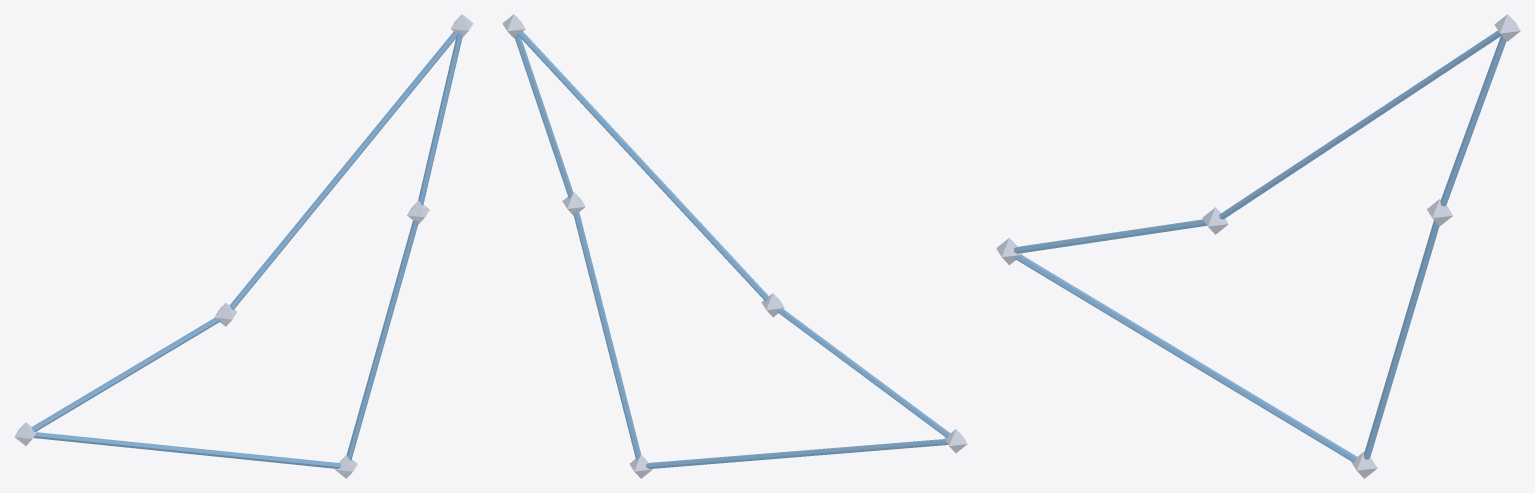
Rendered from constellation-ind.glb.
3 views of the same model, side by side, from view 1: azimuth 30°, elevation 25°; view 2: azimuth 150°, elevation 25°; view 3: azimuth 330°, elevation 25° (orthographic). The views are drawn at different scales.
Bounding box in the file's own units: 1.35 × 1.21 × 0.1184.
